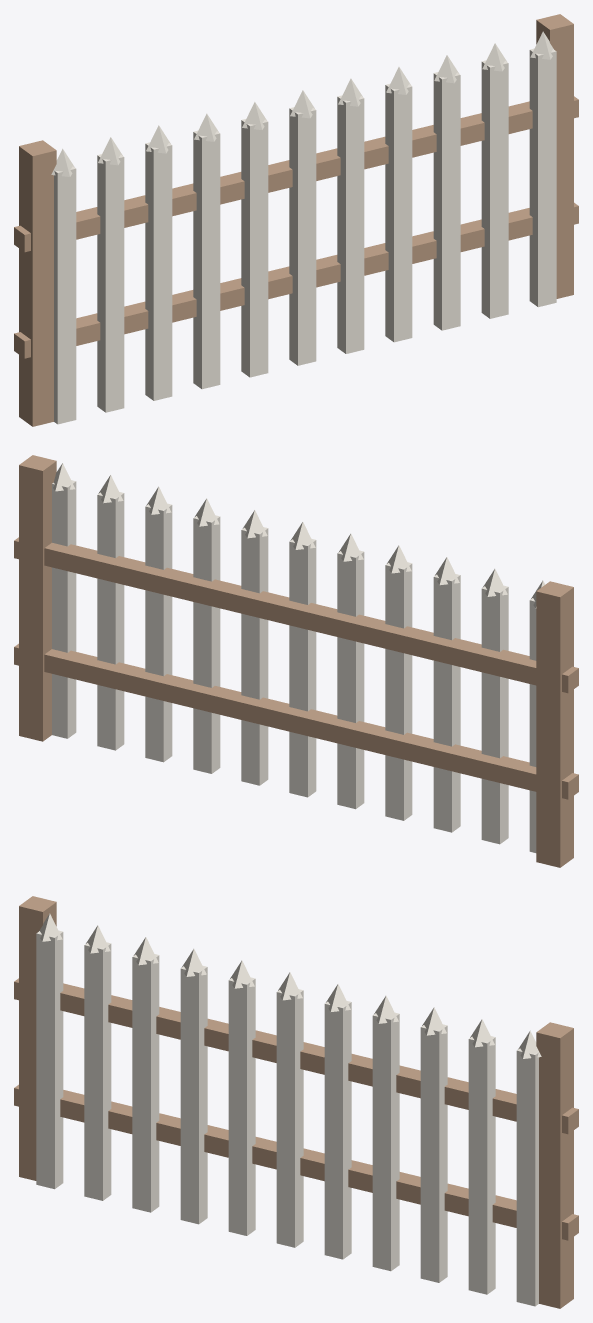
Rendered from picket_fence.glb.
The picture shows the model from 3 angles, top to bottom: view 1: azimuth 30°, elevation 25°; view 2: azimuth 150°, elevation 25°; view 3: azimuth 330°, elevation 25°; orthographic projection.
Parts seen in each view (by area): view 1: picket_fence_000, picket_fence_003, picket_fence_002, picket_fence_008, picket_fence_010, picket_fence_006, picket_fence_014, picket_fence_016, picket_fence_020, picket_fence_022, picket_fence_024, picket_fence_012 (+3 smaller); view 2: picket_fence_003, picket_fence_002, picket_fence_000, picket_fence_001, picket_fence_016, picket_fence_010, picket_fence_006, picket_fence_008, picket_fence_012, picket_fence_014, picket_fence_018, picket_fence_020 (+3 smaller); view 3: picket_fence_001, picket_fence_003, picket_fence_002, picket_fence_020, picket_fence_018, picket_fence_014, picket_fence_022, picket_fence_008, picket_fence_012, picket_fence_006, picket_fence_004, picket_fence_016 (+3 smaller).
Part boxes in pixels (x1,y1,x2,y2): picket_fence_000: [19, 140, 56, 426]; picket_fence_003: [14, 96, 578, 252]; picket_fence_002: [14, 202, 578, 358]; picket_fence_008: [145, 142, 172, 400]; picket_fence_010: [193, 130, 220, 389]; picket_fence_006: [97, 154, 124, 412]; picket_fence_014: [289, 107, 316, 365]; picket_fence_016: [337, 95, 364, 353]; picket_fence_020: [433, 72, 460, 330]; picket_fence_022: [481, 60, 508, 318]; picket_fence_024: [529, 48, 556, 307]; picket_fence_012: [241, 119, 268, 377]; picket_fence_003: [14, 537, 578, 693]; picket_fence_002: [14, 643, 578, 799]; picket_fence_000: [536, 581, 573, 867]; picket_fence_001: [19, 455, 56, 741]; picket_fence_016: [241, 527, 268, 785]; picket_fence_010: [385, 562, 412, 820]; picket_fence_006: [481, 585, 508, 844]; picket_fence_008: [433, 574, 460, 832]; picket_fence_012: [337, 550, 364, 809]; picket_fence_014: [289, 538, 316, 797]; picket_fence_018: [193, 515, 220, 773]; picket_fence_020: [145, 503, 172, 762]; picket_fence_001: [536, 1022, 573, 1308]; picket_fence_003: [14, 978, 578, 1134]; picket_fence_002: [14, 1084, 578, 1240]; picket_fence_020: [420, 1024, 447, 1282]; picket_fence_018: [372, 1012, 399, 1271]; picket_fence_014: [276, 989, 303, 1247]; picket_fence_022: [468, 1036, 495, 1294]; picket_fence_008: [132, 954, 159, 1212]; picket_fence_012: [228, 977, 255, 1235]; picket_fence_006: [84, 942, 111, 1200]; picket_fence_004: [36, 930, 63, 1189]; picket_fence_016: [324, 1001, 351, 1259].
Size of the model in its own units: 3 by 1.4 by 0.195.
